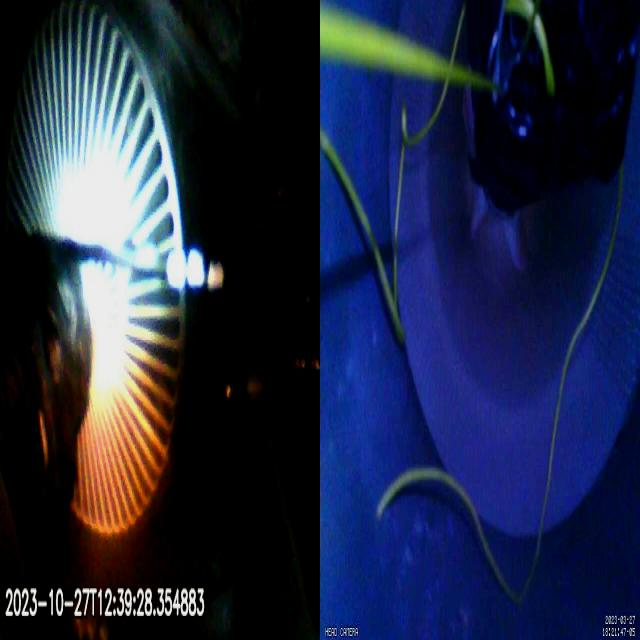white-dots: (166, 244, 223, 292)
